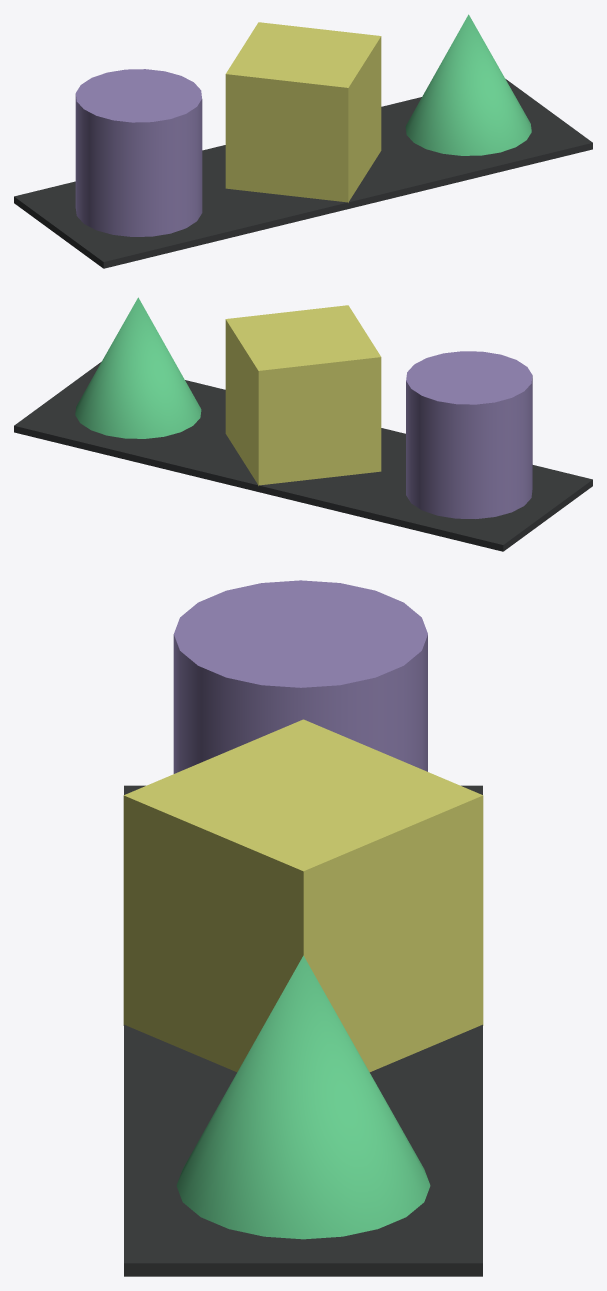
Rendered from shapes.fbx.
3 views of the same model, one above another, from view 1: azimuth 30°, elevation 25°; view 2: azimuth 150°, elevation 25°; view 3: azimuth 270°, elevation 25° (orthographic). The views are drawn at different scales.
Parts seen in each view (by area): view 1: cube, shelf, cylinder, cone; view 2: cube, shelf, cylinder, cone; view 3: cube, shelf, cone, cylinder.
Part boxes in pixels (bbox=[...]): cube: bbox=[225, 22, 381, 202]; shelf: bbox=[14, 79, 592, 268]; cylinder: bbox=[75, 69, 202, 236]; cone: bbox=[405, 14, 531, 155]; cube: bbox=[225, 305, 381, 485]; shelf: bbox=[14, 362, 592, 551]; cylinder: bbox=[406, 351, 532, 518]; cone: bbox=[75, 297, 201, 438]; cube: bbox=[123, 719, 483, 1071]; shelf: bbox=[124, 785, 482, 1276]; cone: bbox=[176, 955, 430, 1239]; cylinder: bbox=[173, 580, 427, 773].
Size of the model in its own units: 444 by 106 by 141.
Materials: 1 (1 with a texture image).
